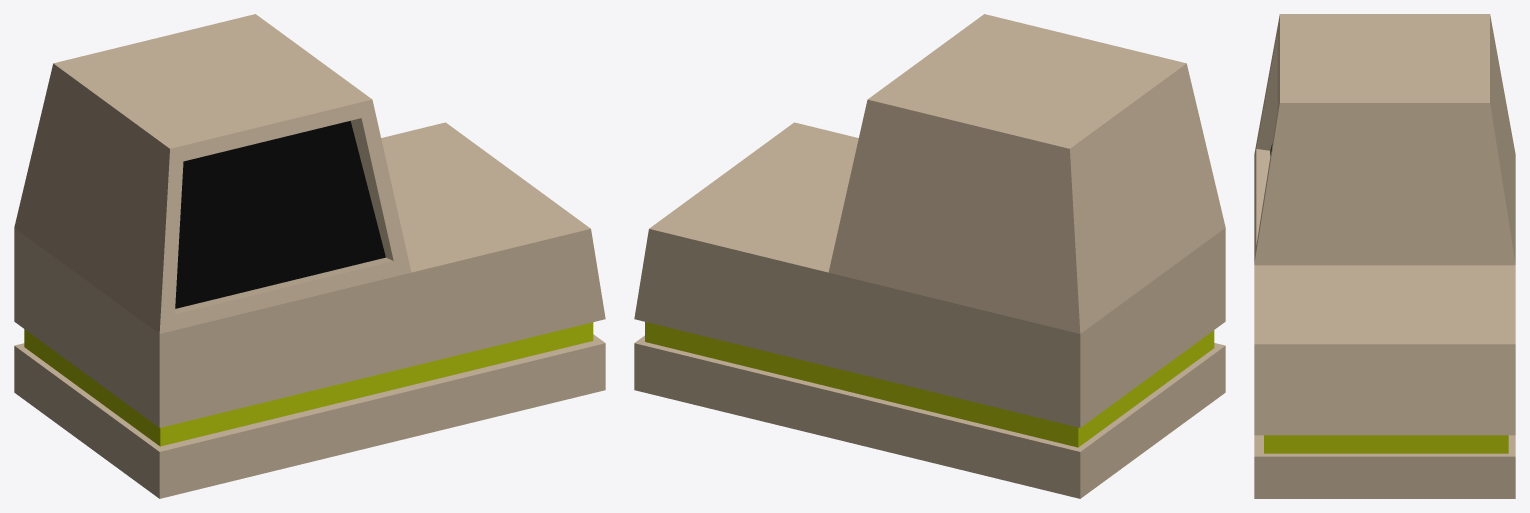
Rendered from Computer.obj.
The picture shows the model from 3 angles, left to right: view 1: azimuth 30°, elevation 25°; view 2: azimuth 150°, elevation 25°; view 3: azimuth 270°, elevation 25°; orthographic projection. The views are drawn at different scales.
Visible parts, largest first — view 1: Cube; view 2: Cube; view 3: Cube.
Boxes of the visible parts, box(x1,y1,x2,y2) form: Cube: box(14, 14, 605, 498); Cube: box(634, 14, 1225, 498); Cube: box(1254, 14, 1515, 498).
Size of the model in its own units: 3.61 by 2.58 by 2.04.
